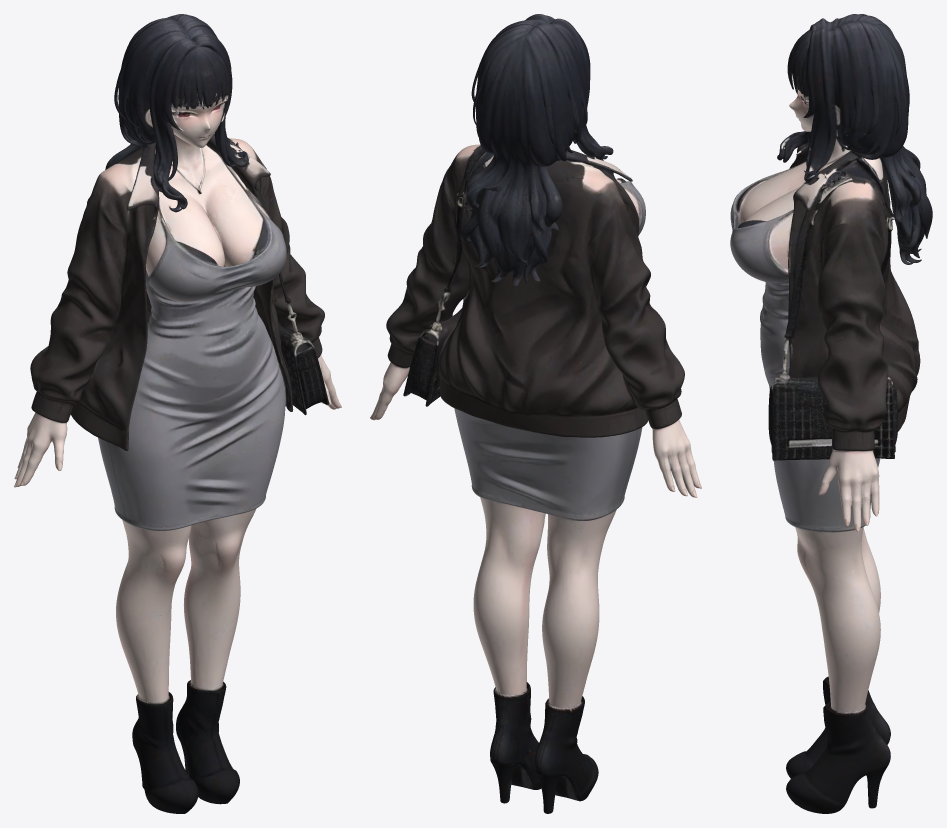
The model's file is reikamodel.glb.
The picture shows the model from 3 angles, left to right: view 1: azimuth 30°, elevation 25°; view 2: azimuth 150°, elevation 25°; view 3: azimuth 270°, elevation 25°; orthographic projection.
Bounding box in the file's own units: 0.837 × 1.91 × 0.4492.
Materials: 1 (1 with a texture image).
